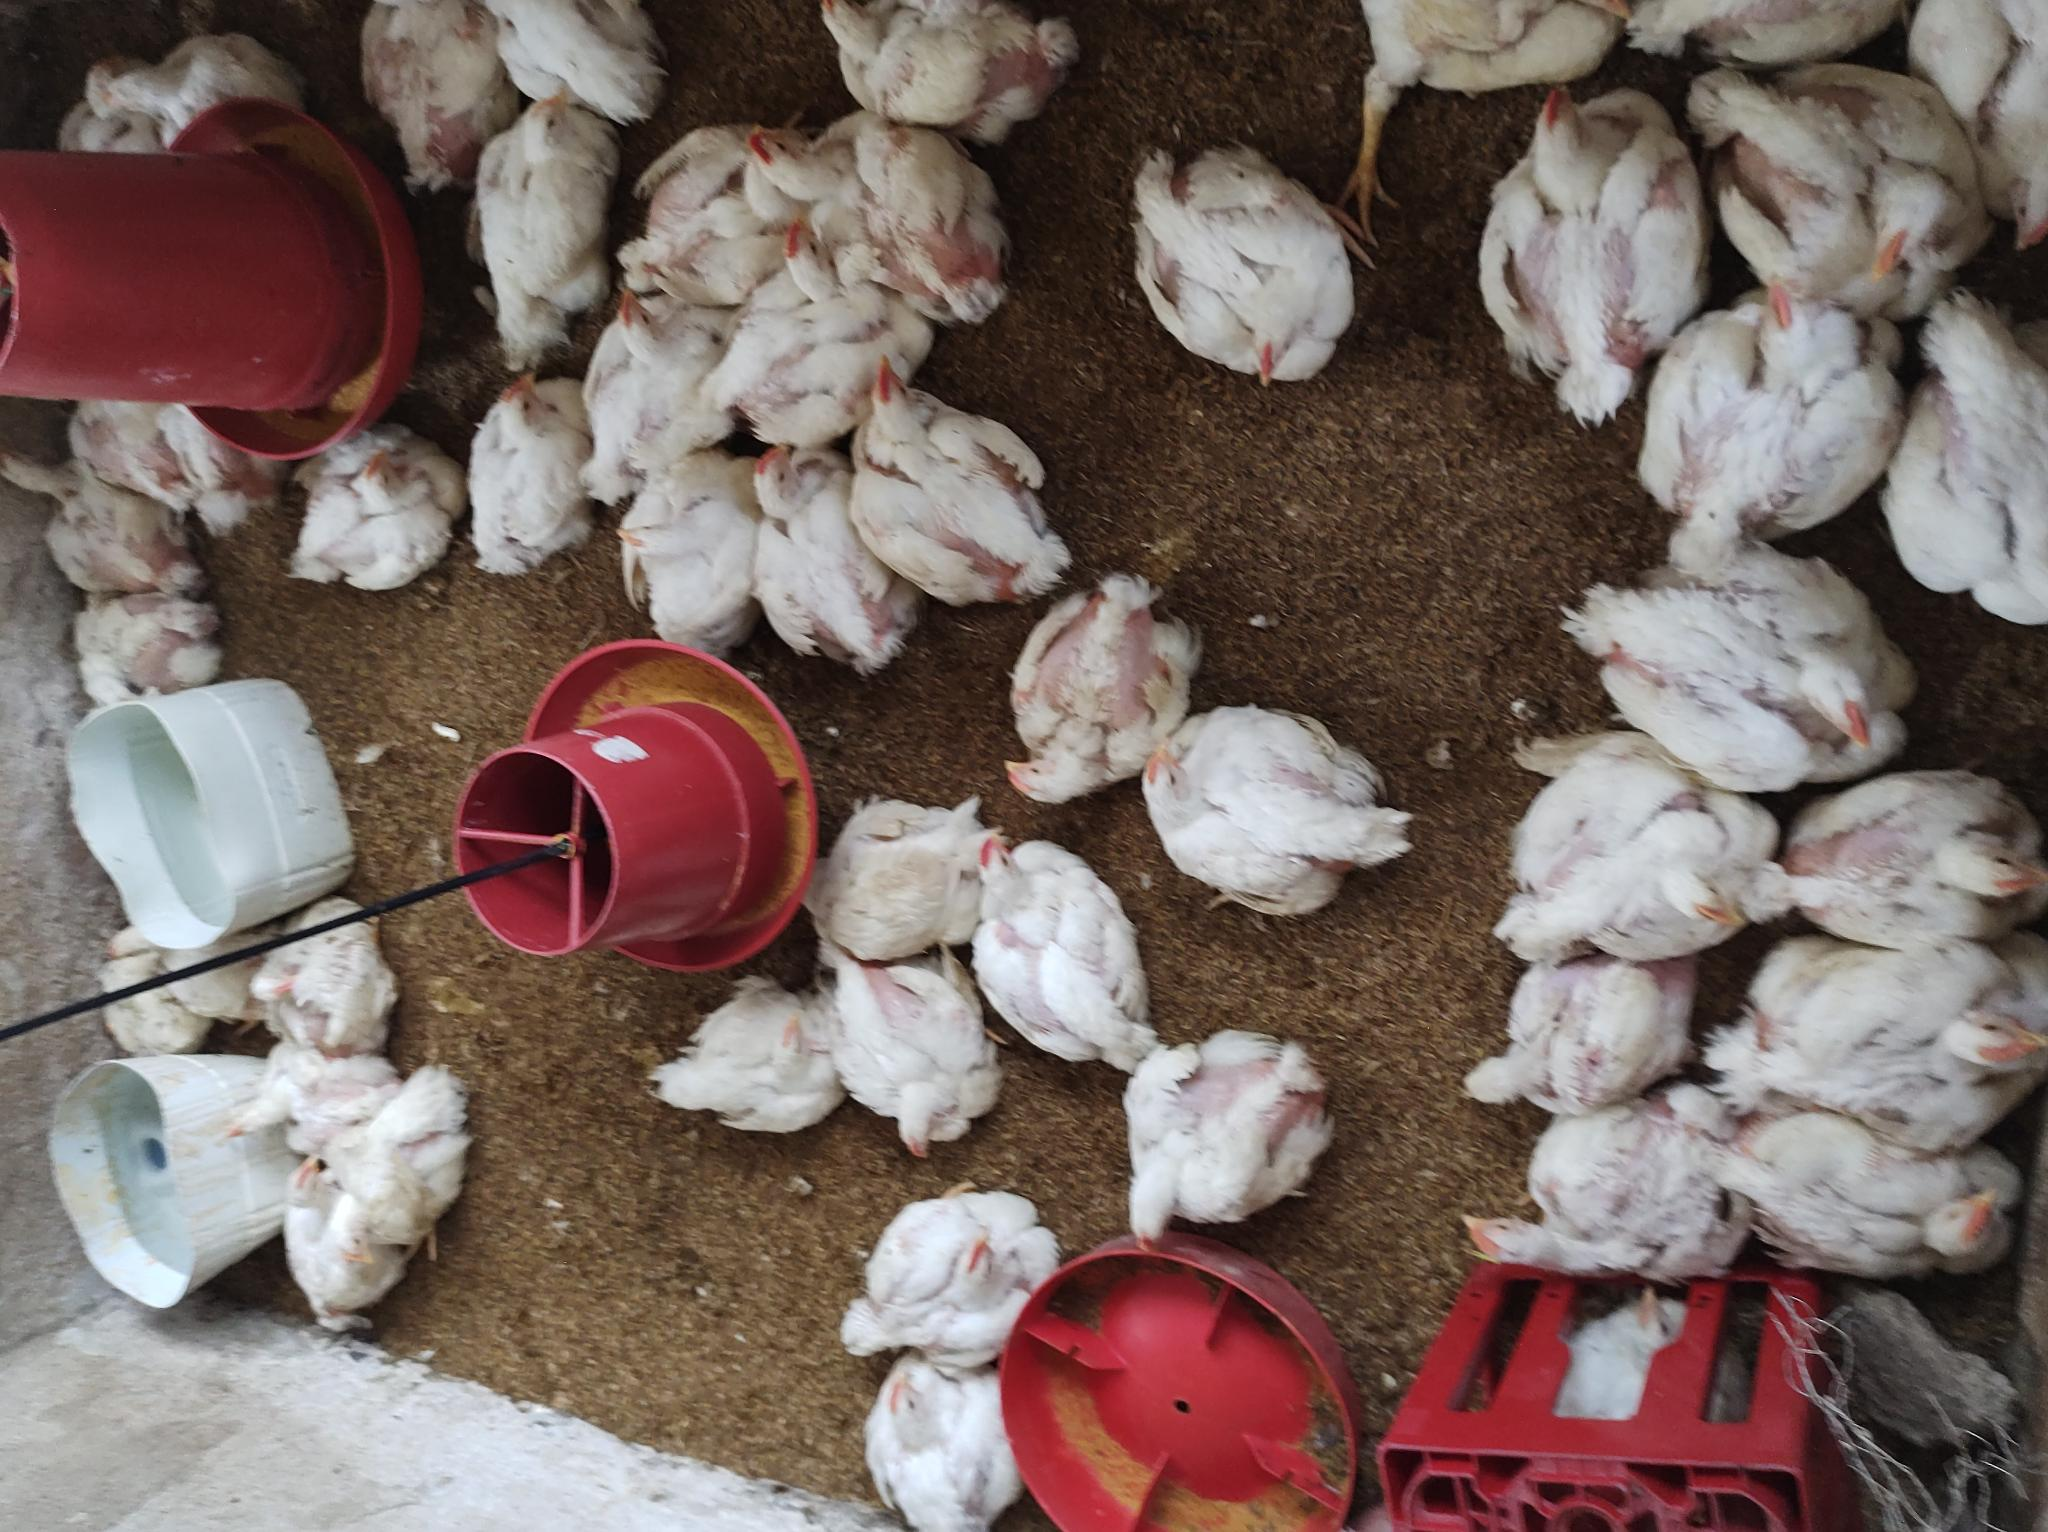Pollos: (1556, 544, 1906, 793), (1630, 266, 1886, 570), (1470, 84, 1691, 430), (1691, 69, 1988, 303), (1117, 134, 1358, 418), (1477, 739, 1766, 966), (1136, 689, 1413, 924), (841, 349, 1075, 608), (746, 111, 1022, 325), (1441, 1085, 1734, 1279), (1713, 1102, 2024, 1278), (1886, 290, 2048, 624), (991, 566, 1197, 816), (1113, 1012, 1327, 1252), (1725, 938, 2046, 1096), (975, 822, 1178, 1072), (711, 245, 936, 451), (1445, 949, 1699, 1131), (1791, 766, 2048, 941), (811, 941, 1010, 1167), (837, 1160, 1052, 1365), (470, 85, 618, 375), (748, 438, 933, 660), (624, 114, 827, 299), (1351, 0, 1643, 129), (615, 431, 775, 661), (0, 426, 208, 599), (322, 1060, 479, 1278), (804, 789, 1005, 957), (1913, 0, 2048, 249), (804, 0, 1080, 122), (650, 961, 837, 1138), (582, 282, 743, 483), (854, 1340, 1014, 1532), (460, 370, 598, 579), (282, 430, 452, 597), (360, 0, 496, 190), (256, 896, 405, 1057), (204, 1043, 405, 1152), (1549, 1266, 1696, 1415), (71, 32, 294, 122), (278, 1159, 389, 1337), (64, 584, 220, 710), (93, 920, 219, 1056), (71, 396, 203, 509)
